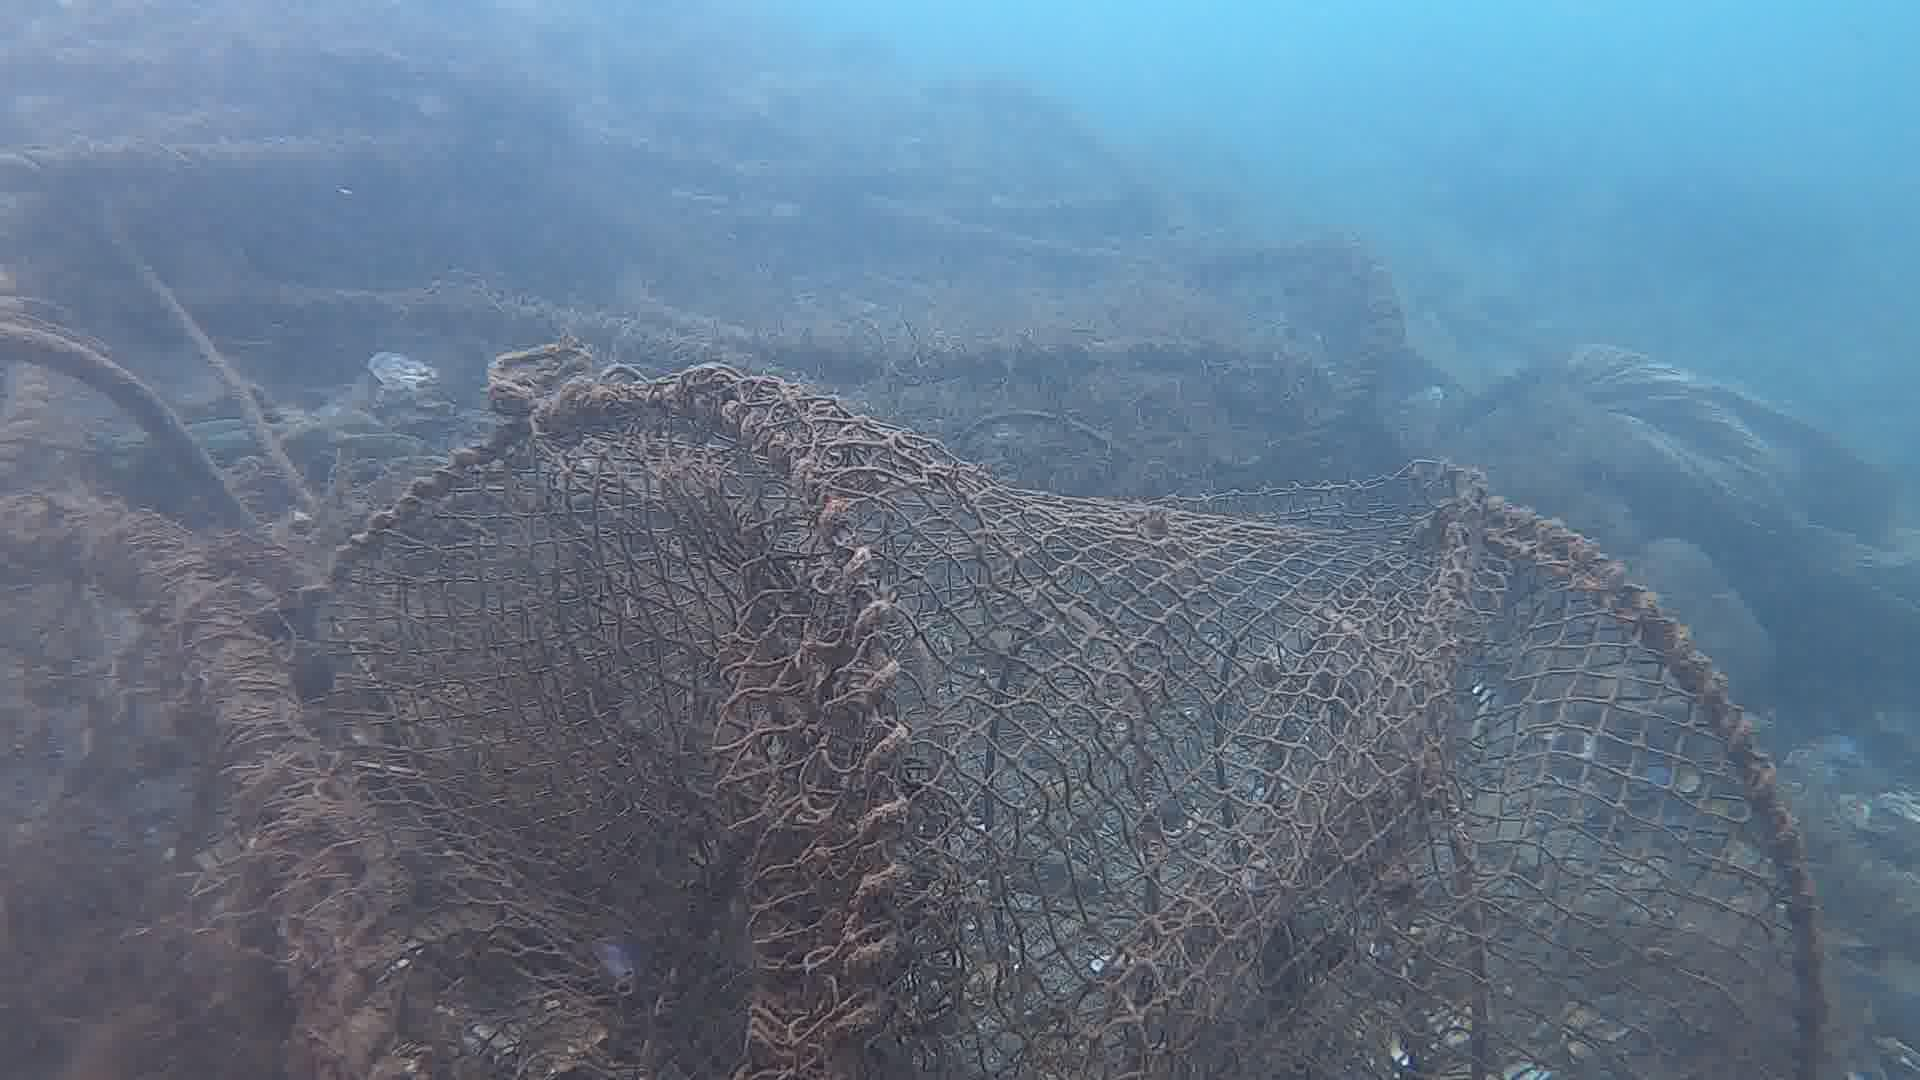spring fish trap: (161, 365, 1836, 1080)
